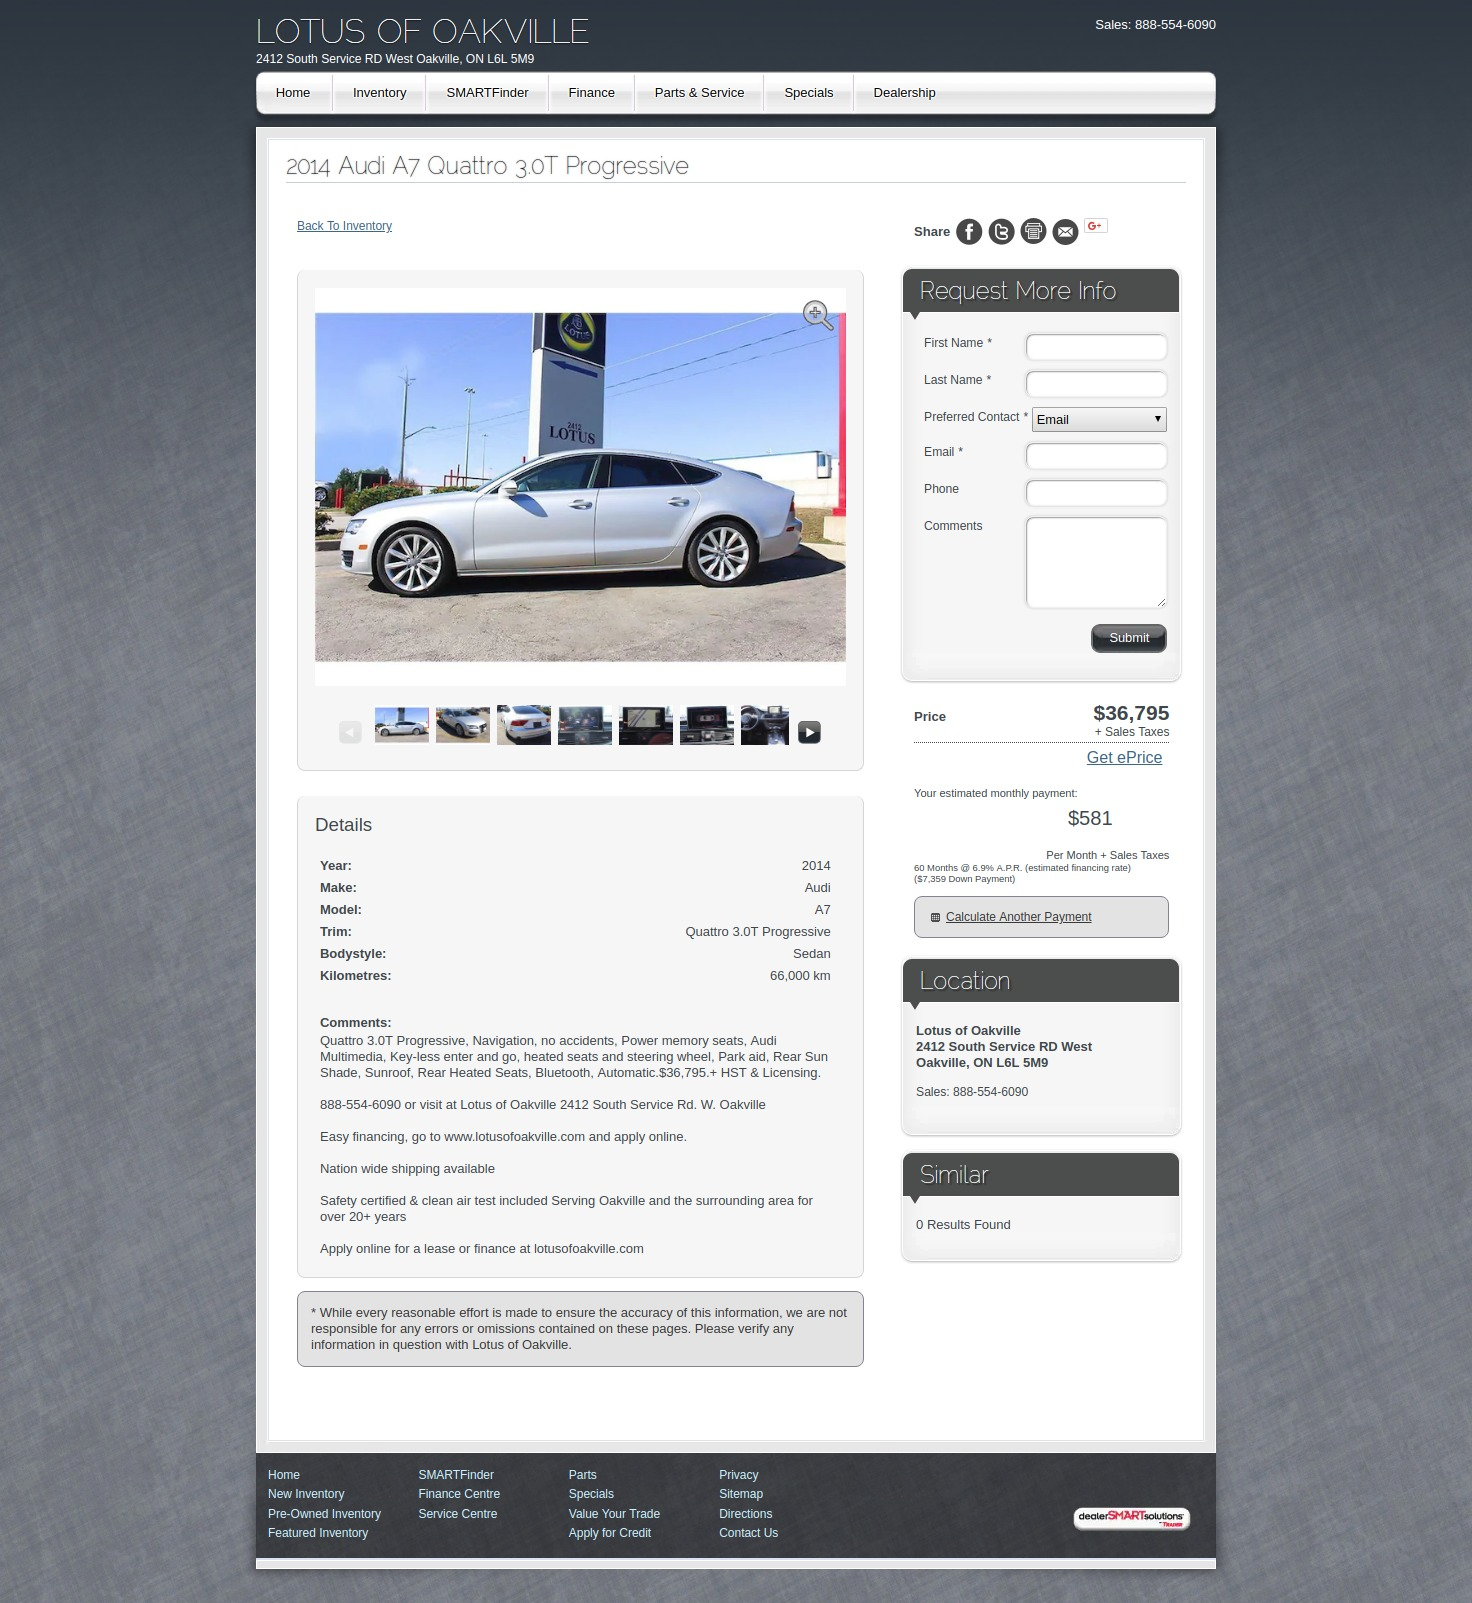car: (806, 727, 816, 739)
